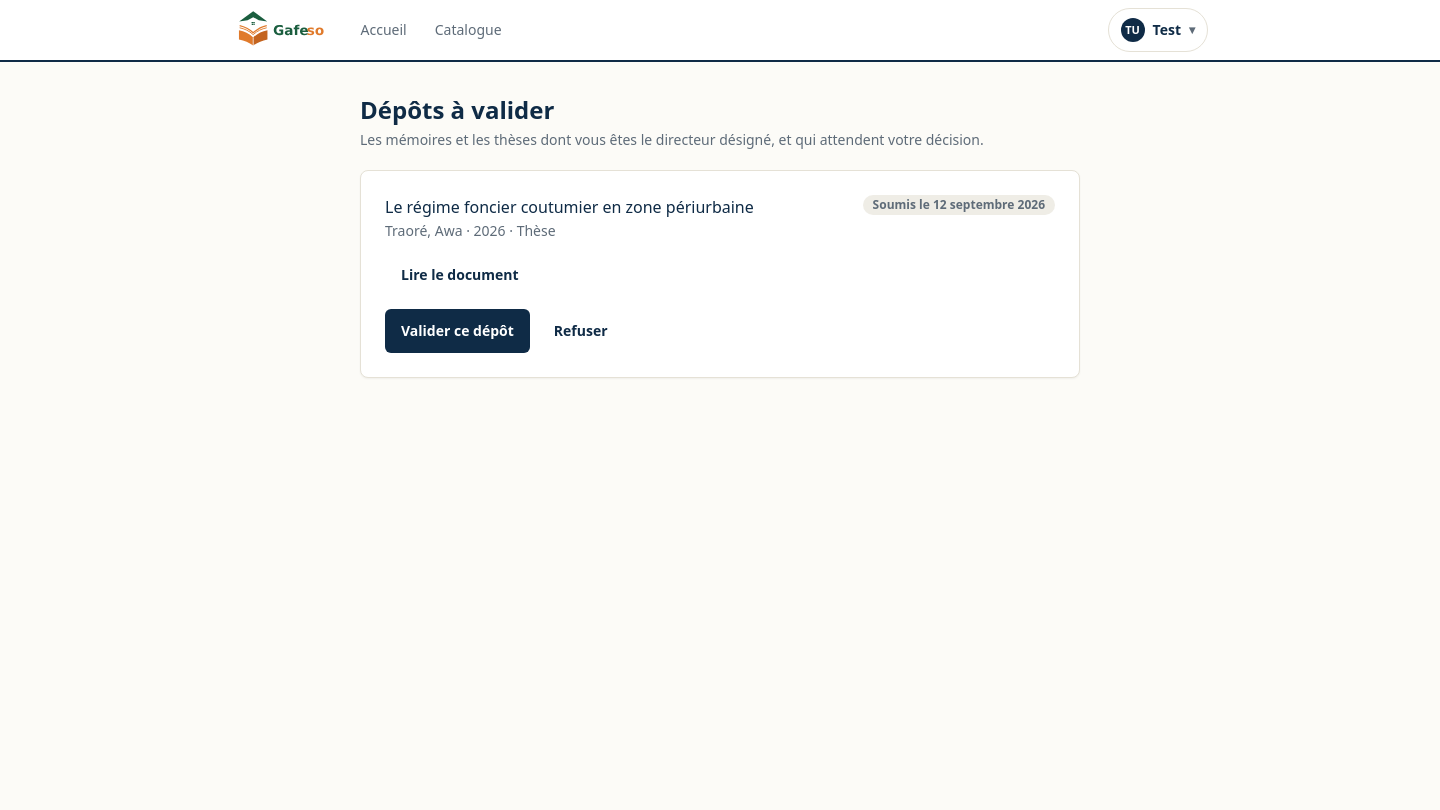
Test: Dépôts à valider · la décision › ⚠ un refus SANS motif est impossible, et la règle se lit à l’écran
The width and height of the screenshot is (1440, 810).
Click the button "Refuser": (581, 331) left=538, top=309, right=624, bottom=353
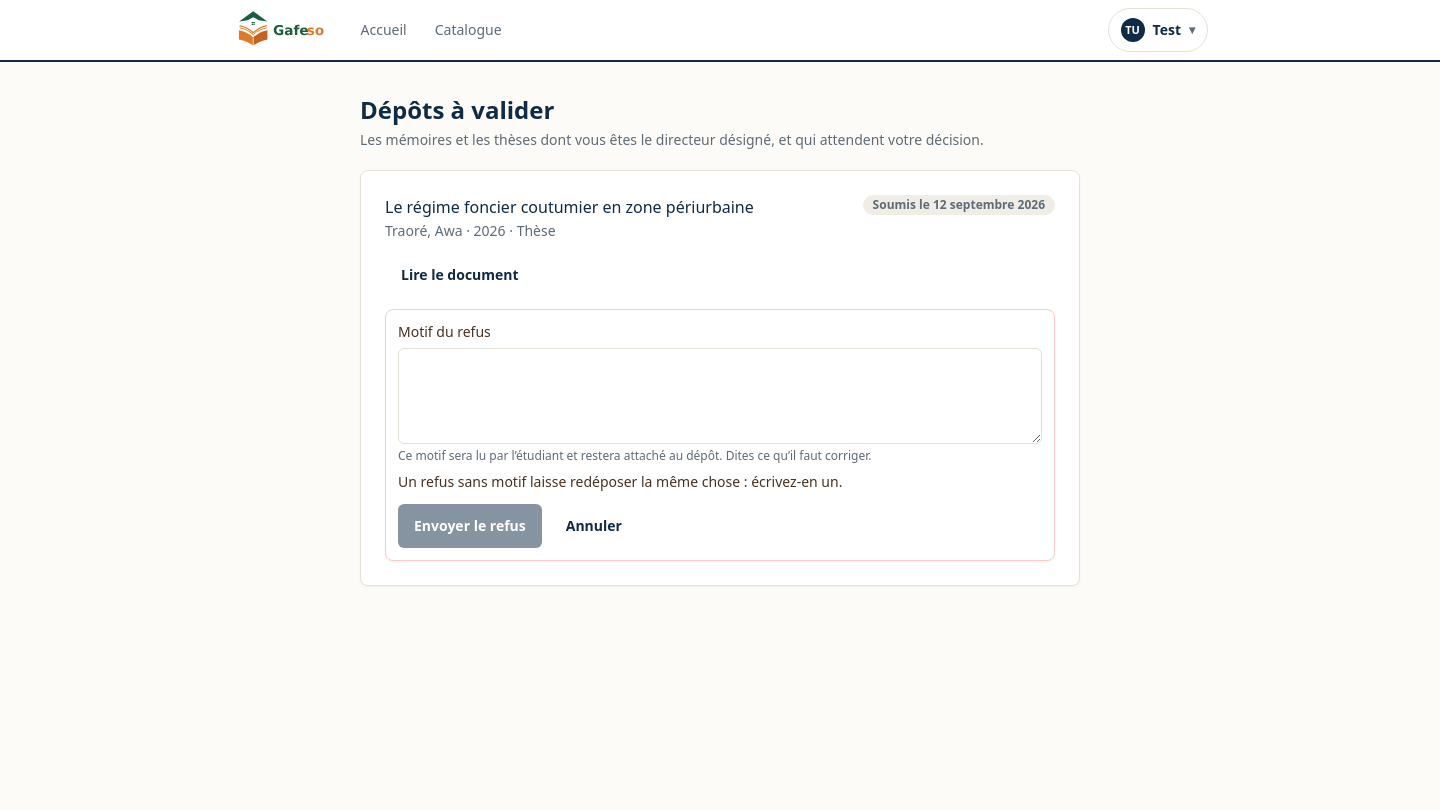
Check: the text "Un refus sans motif laisse redéposer la même chose : écrivez-en un." is shown, box left=398, top=472, right=842, bottom=491
Check: the button "Envoyer le refus" is disabled, box left=398, top=504, right=542, bottom=548
